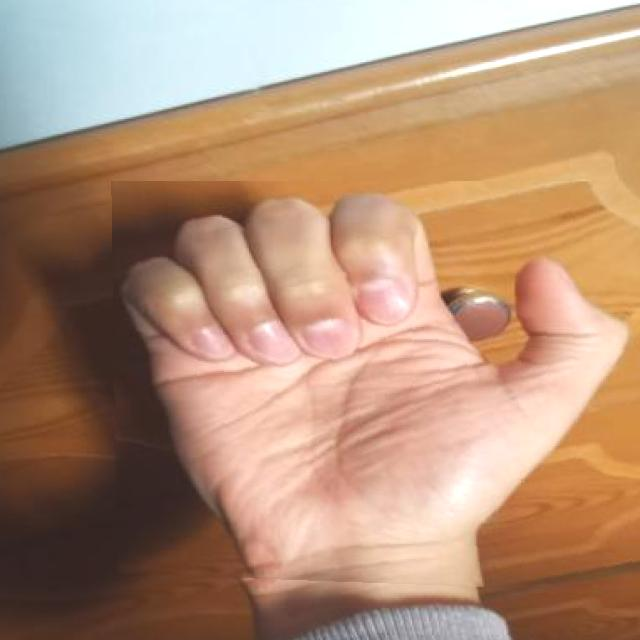E: (111, 181, 640, 593)
